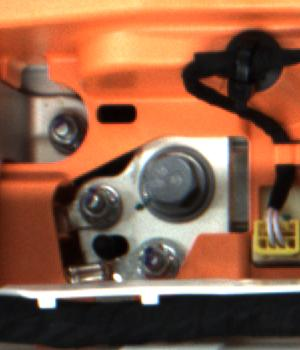nut_b: (138, 140, 223, 220)
screw_s: (42, 112, 86, 155), (135, 242, 178, 283), (79, 185, 109, 219)
